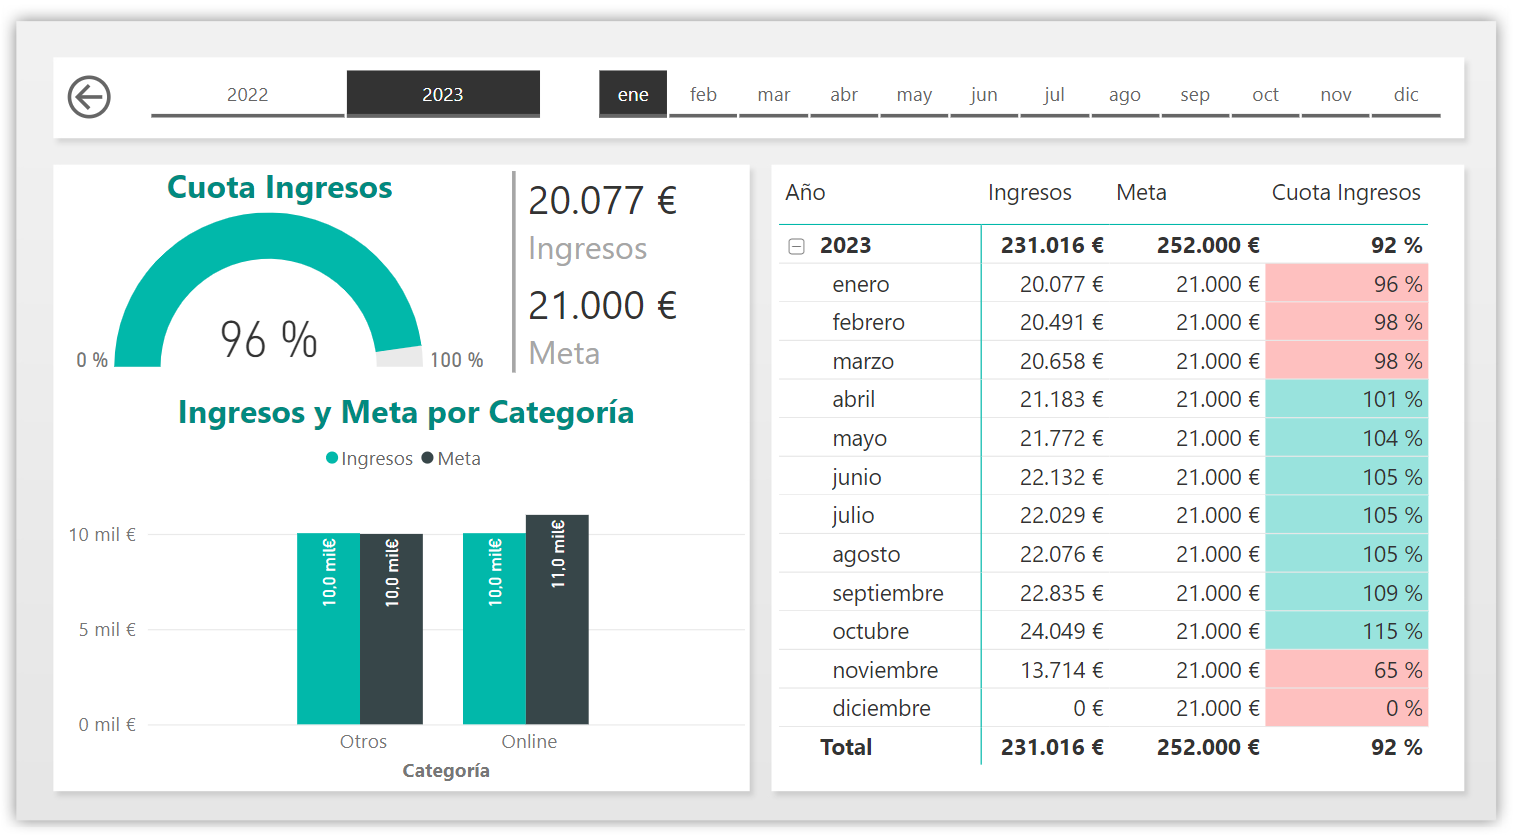

This screenshot's page, from the dashboard's own definition file:
{"tool":"powerbi","page":{"name":"Detalle Ingresos","canvas":[1280,720],"ordinal":3},"visuals":[{"type":"slicer","fields":{"Values":["Calendarios.Año"]},"box":[111.7,60,371.7,53.3],"z":0},{"type":"slicer","fields":{"Values":["Calendarios.Mes"]},"box":[483.3,60,746.7,53.3],"z":1000},{"type":"gauge","title":"Cuota Ingresos","fields":{"Y":["Cuotas %.Cuotas Ingresos"]},"box":[56.7,143.3,375.6,178.9],"z":2000},{"type":"multiRowCard","fields":{"Values":["Finanzas.Ingresos","Expectativas.Meta"]},"box":[431.7,145,203.3,185],"z":3000},{"type":"actionButton","box":[63.3,61.7,46.7,55],"z":4000},{"type":"clusteredColumnChart","title":"Ingresos y Meta por Categoría","fields":{"Y":["Finanzas.Ingresos","Expectativas.Meta"],"Category":["Categorias.Cat-Otros"]},"box":[63.3,330,571.7,331.7],"z":5000},{"type":"pivotTable","fields":{"Rows":["Calendarios.Año","Calendarios.Nombre del mes"],"Values":["Finanzas.Ingresos","Expectativas.Meta","Cuotas %.Cuota Ingresos"]},"box":[652.9,145.7,577.1,517.1],"z":6000}]}

Visuals, with their boxes in screenshot pixels (x1, y1, x2, y2), scaled from the page's 1280x720 canvas onto the 1513x837 screenshot:
slicer - Calendarios.Año: locate(132, 70, 571, 132)
slicer - Calendarios.Mes: locate(571, 70, 1454, 132)
"Cuota Ingresos" gauge: locate(67, 167, 511, 375)
multiRowCard - Finanzas.Ingresos x Expectativas.Meta: locate(510, 169, 751, 384)
actionButton: locate(75, 72, 130, 136)
"Ingresos y Meta por Categoría" clusteredColumnChart: locate(75, 384, 751, 769)
pivotTable - Calendarios.Año x Calendarios.Nombre del mes: locate(772, 169, 1454, 771)
